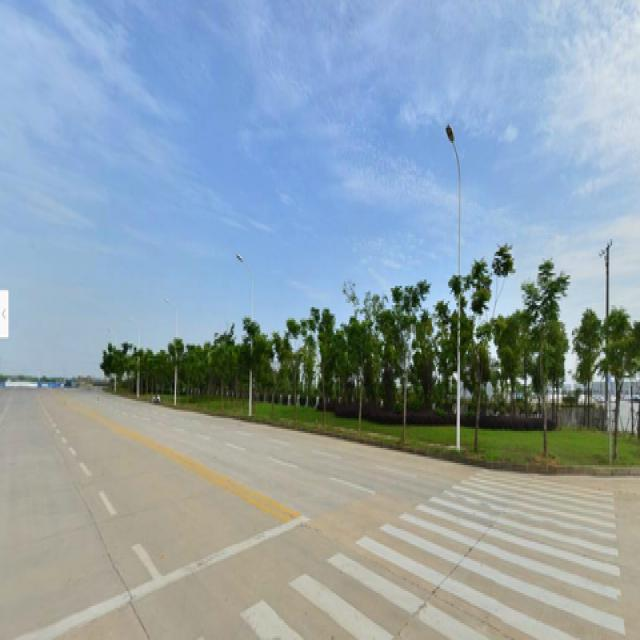koel: (460, 249, 499, 442), (522, 271, 562, 450), (388, 288, 419, 429)
